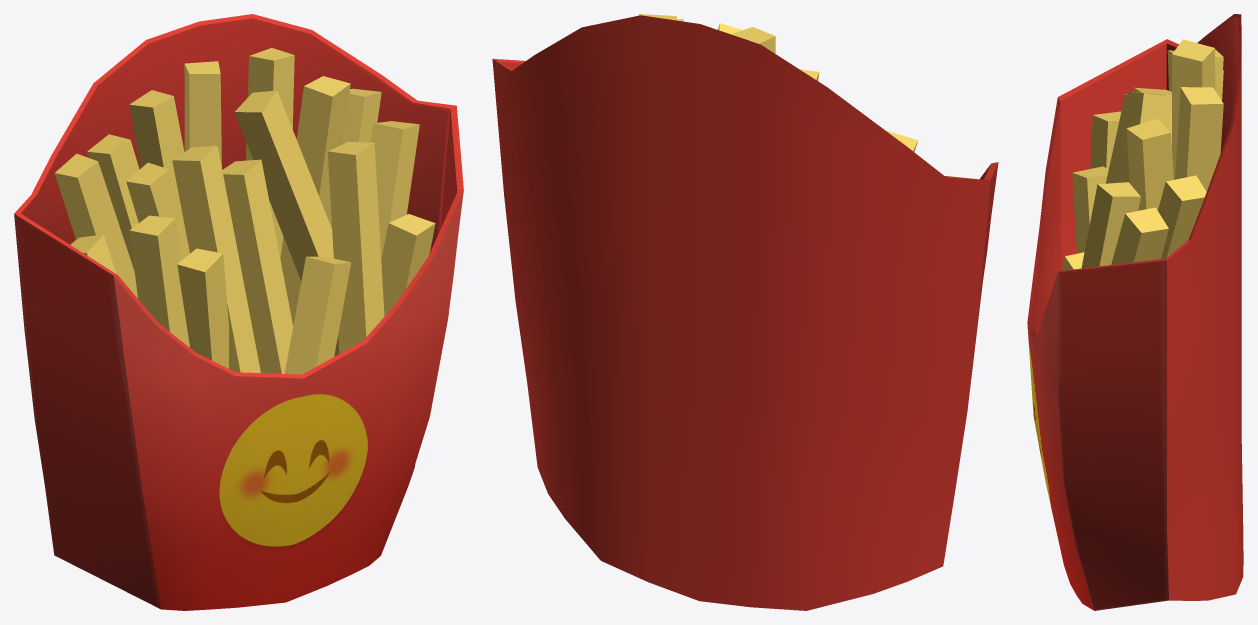
File: french-fries-emoji-low-poly.fbx
3 views of the same model, side by side, from view 1: azimuth 30°, elevation 25°; view 2: azimuth 150°, elevation 25°; view 3: azimuth 270°, elevation 25° (orthographic). The views are drawn at different scales.
Visible parts, largest first — view 1: Box_0, fry.015_0, fry.010_0, fry.008_0, fry.011_0, fry.006_0, fry.017_0, fry.013_0, fry.014_0, fry.004_0, fry.009_0, fry.016_0 (+7 smaller); view 2: Box_0; view 3: Box_0, fry.002_0, fry.006_0, fry.015_0, fry.007_0, fry.001_0, fry.009_0, fry.008_0, fry.014_0, fry.013_0, fry.011_0, fry.000_0 (+2 smaller).
Part boxes in pixels (x1,y1,x2,y2): Box_0: (14,14,463,610); fry.015_0: (327,142,384,353); fry.010_0: (222,159,293,373); fry.008_0: (234,90,339,356); fry.011_0: (172,146,260,372); fry.006_0: (280,76,350,325); fry.017_0: (284,256,351,374); fry.013_0: (129,215,189,347); fry.014_0: (177,248,229,368); fry.004_0: (54,153,137,298); fry.009_0: (371,121,419,258); fry.016_0: (381,214,435,316); Box_0: (492,15,998,610); Box_0: (1027,14,1243,610); fry.002_0: (1175,87,1223,191); fry.006_0: (1126,118,1173,210); fry.015_0: (1081,182,1140,268); fry.007_0: (1158,175,1206,258); fry.001_0: (1172,39,1215,179); fry.009_0: (1111,207,1168,264); fry.008_0: (1116,91,1171,182); fry.014_0: (1072,166,1108,253); fry.013_0: (1090,111,1121,169); fry.011_0: (1106,94,1126,183); fry.000_0: (1212,47,1223,99).
Size of the model in its own units: 886 by 989 by 366.
Materials: 2 (1 with a texture image).
